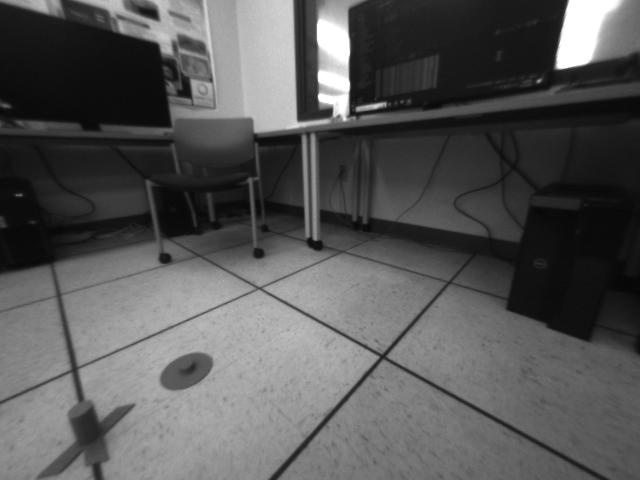X: (33, 399, 136, 480)
